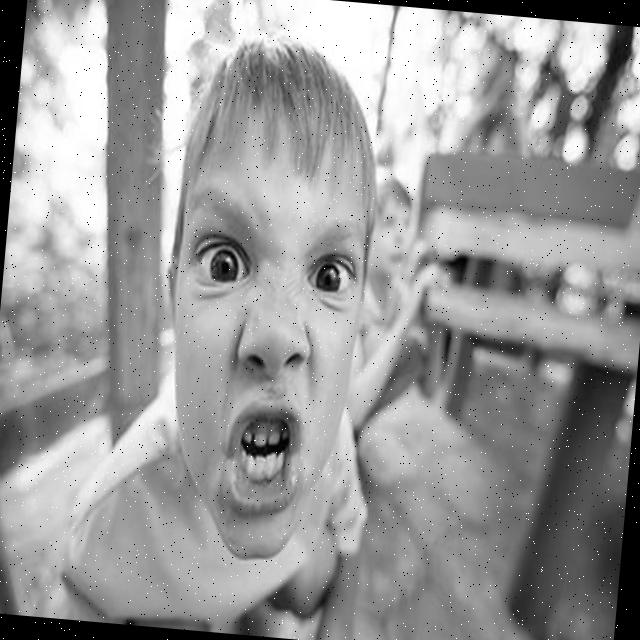Angry: (154, 100, 378, 568)
